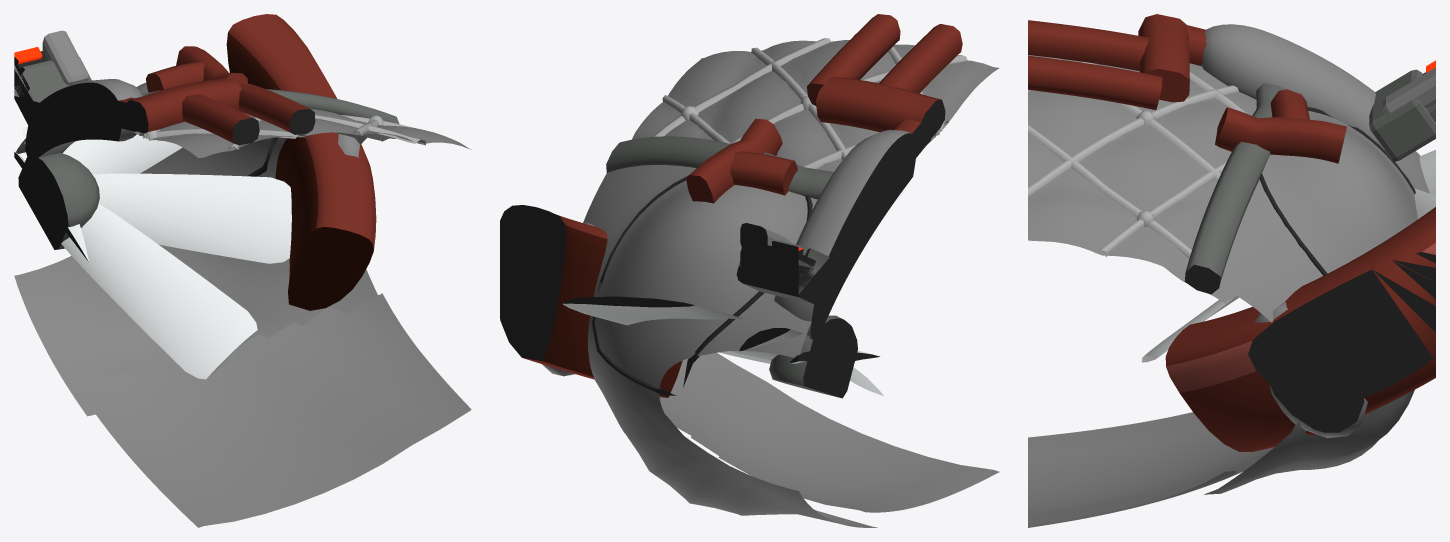
Rendered from zeppelin_131.glb.
3 views of the same model, side by side, from view 1: azimuth 30°, elevation 25°; view 2: azimuth 150°, elevation 25°; view 3: azimuth 270°, elevation 25° (orthographic). The views are drawn at different scales.
Visible parts, largest first — view 1: envelope.001, cowl.001, duct.001, blade_6.001, blade_7.001, hub_fairing.001, fan_hub.001, gate_bar.001, blade_0.001, gate_leg_in_r.001, gate_leg_out_r.001, cowl_rim.001 (+6 smaller); view 2: cowl.001, envelope.001, duct.001, hub_fairing.001, gate_bar.001, cowl_rim.001, fan_hub.001, net_ropes.001, blade_0.001, gate_leg_out_r.001, bracket_r.001, gate_leg_in_r.001 (+7 smaller); view 3: envelope.001, duct.001, cowl.001, hub_fairing.001, cowl_rim.001, net_ropes.001, duct_boot_r.001, gate_leg_out_r.001, bracket_r.001, gate_leg_in_r.001, gate_bar.001, bridge_foot.001 (+6 smaller).
Boxes of the visible parts, bbox=[...] form: envelope.001: bbox=[75, 108, 471, 527]; cowl.001: bbox=[14, 82, 377, 416]; duct.001: bbox=[226, 14, 376, 310]; blade_6.001: bbox=[61, 203, 257, 379]; blade_7.001: bbox=[92, 173, 291, 263]; hub_fairing.001: bbox=[25, 79, 142, 159]; fan_hub.001: bbox=[18, 152, 99, 249]; gate_bar.001: bbox=[126, 78, 241, 133]; blade_0.001: bbox=[63, 134, 182, 174]; gate_leg_in_r.001: bbox=[182, 94, 259, 145]; gate_leg_out_r.001: bbox=[239, 83, 315, 134]; cowl_rim.001: bbox=[79, 89, 399, 138]; cowl.001: bbox=[583, 165, 877, 527]; envelope.001: bbox=[632, 40, 999, 512]; duct.001: bbox=[500, 205, 682, 397]; hub_fairing.001: bbox=[774, 129, 916, 344]; gate_bar.001: bbox=[815, 76, 945, 143]; cowl_rim.001: bbox=[606, 136, 887, 214]; fan_hub.001: bbox=[769, 315, 857, 398]; net_ropes.001: bbox=[652, 38, 967, 168]; blade_0.001: bbox=[562, 296, 771, 360]; gate_leg_out_r.001: bbox=[807, 14, 900, 105]; bracket_r.001: bbox=[686, 118, 782, 203]; gate_leg_in_r.001: bbox=[879, 24, 962, 93]; envelope.001: bbox=[1028, 55, 1274, 527]; duct.001: bbox=[1165, 207, 1435, 451]; cowl.001: bbox=[1204, 111, 1429, 494]; hub_fairing.001: bbox=[1201, 24, 1381, 146]; cowl_rim.001: bbox=[1184, 83, 1284, 294]; net_ropes.001: bbox=[1028, 56, 1248, 258]; duct_boot_r.001: bbox=[1254, 302, 1367, 438]; gate_leg_out_r.001: bbox=[1028, 55, 1162, 110]; bracket_r.001: bbox=[1215, 107, 1346, 163]; gate_leg_in_r.001: bbox=[1028, 20, 1148, 70]; gate_bar.001: bbox=[1138, 14, 1189, 102]; bridge_foot.001: bbox=[1369, 69, 1435, 161].
Size of the model in its own units: 24 by 33.56 by 28.
